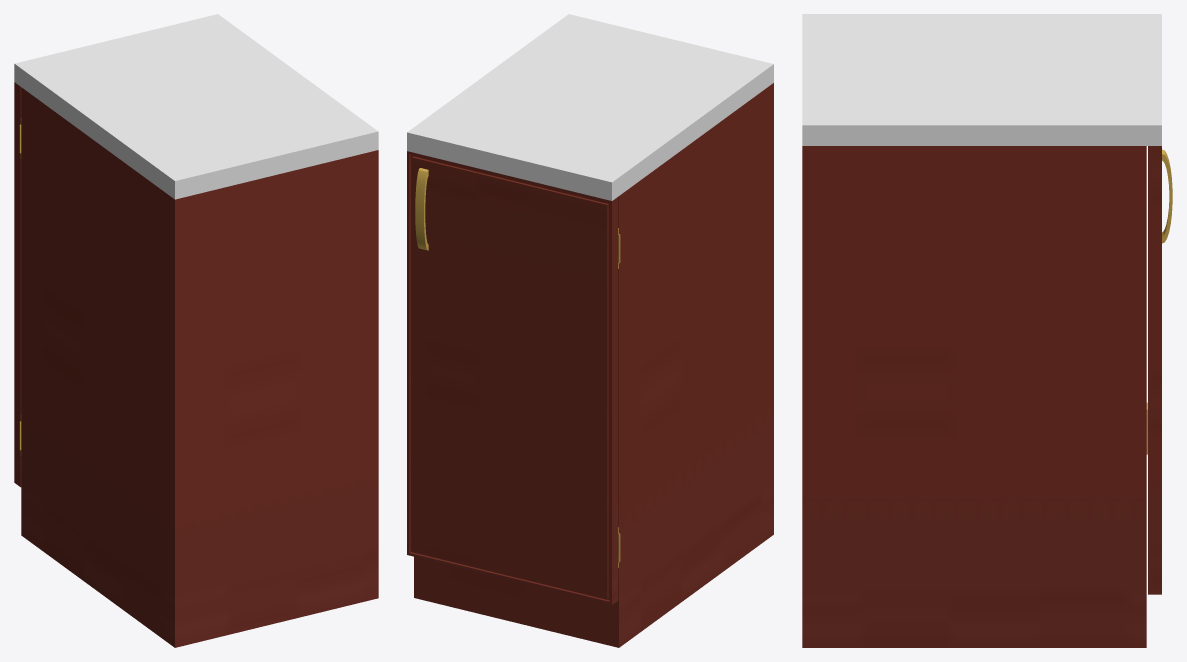
The model's file is CabinetF01.glb.
3 renders of one model, left to right at view 1: azimuth 30°, elevation 25°; view 2: azimuth 150°, elevation 25°; view 3: azimuth 270°, elevation 25°, orthographic. The views are drawn at different scales.
Parts seen in each view (by area): view 1: CabinetF01_model, CabinetF01Door; view 2: CabinetF01_model, CabinetF01Door; view 3: CabinetF01_model, CabinetF01Door.
Boxes of the visible parts, <box> form: CabinetF01_model: <box>14,14,378,647</box>; CabinetF01Door: <box>14,82,21,487</box>; CabinetF01_model: <box>407,14,773,647</box>; CabinetF01Door: <box>407,151,620,604</box>; CabinetF01_model: <box>802,14,1161,647</box>; CabinetF01Door: <box>1147,146,1172,594</box>.
Size of the model in its own units: 0.9256 by 2.02 by 1.29.
Materials: 1 (1 with a texture image).
